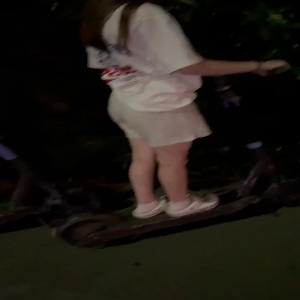human on a scooter: (51, 1, 300, 252)
